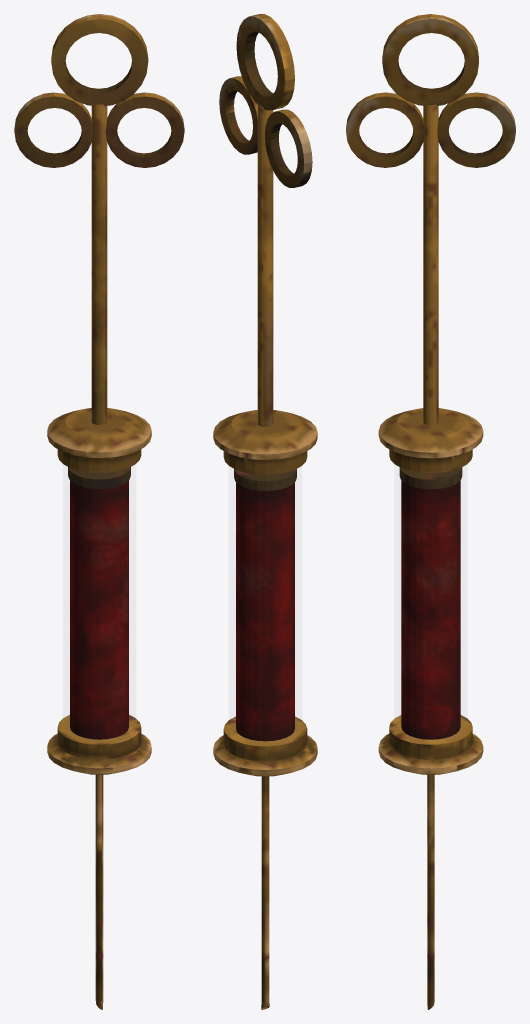
Rendered from syrenge.fbx.
The picture shows the model from 3 angles, left to right: view 1: azimuth 90°, elevation 25°; view 2: azimuth 210°, elevation 25°; view 3: azimuth 270°, elevation 25°; orthographic projection.
Visible parts, largest first — view 1: Plunger, Liquid, Barrel; view 2: Liquid, Plunger, Barrel; view 3: Plunger, Liquid, Barrel.
Boxes of the visible parts, bbox=[...] form: Plunger: bbox=[14, 14, 184, 488]; Liquid: bbox=[70, 480, 128, 739]; Barrel: bbox=[47, 408, 151, 1009]; Liquid: bbox=[236, 482, 294, 741]; Plunger: bbox=[219, 14, 312, 490]; Barrel: bbox=[213, 410, 317, 1009]; Plunger: bbox=[346, 14, 515, 489]; Liquid: bbox=[401, 480, 460, 739]; Barrel: bbox=[378, 408, 483, 1009].
Bounding box in the file's own units: 71.5 × 749 × 116.
